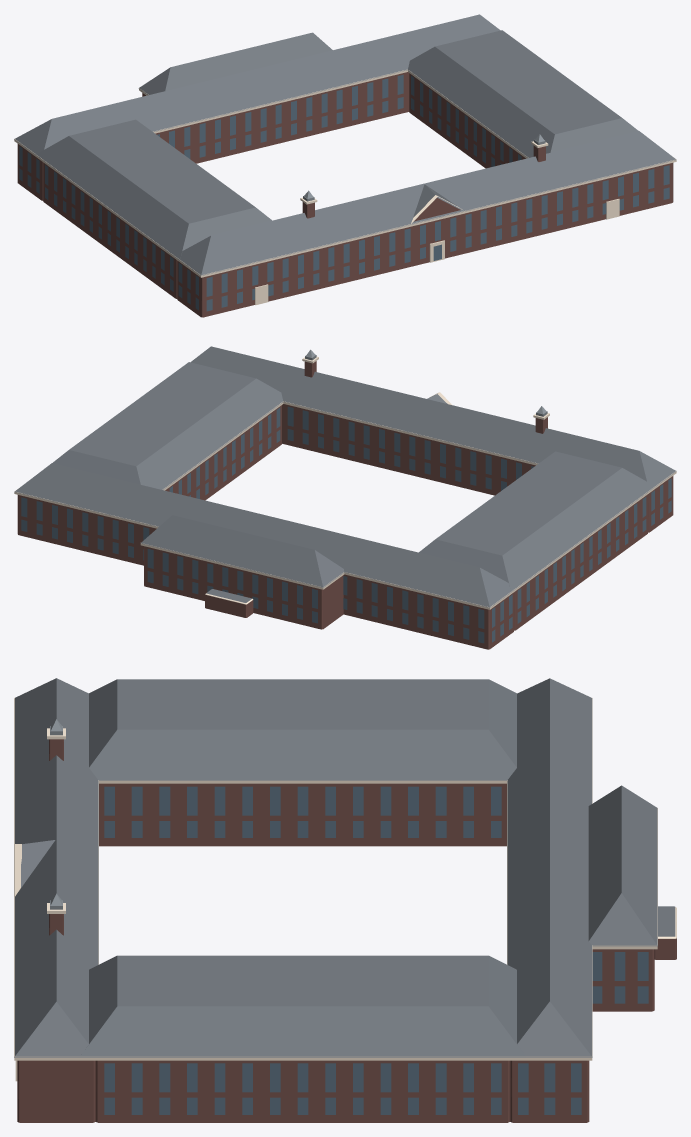
The model's file is amsterdam-hart-museum.glb.
3 renders of one model, top to bottom at view 1: azimuth 30°, elevation 25°; view 2: azimuth 150°, elevation 25°; view 3: azimuth 270°, elevation 25°, orthographic. The views are drawn at different scales.
Parts seen in each view (by area): view 1: H'ART Museum (Amstelhof); view 2: H'ART Museum (Amstelhof); view 3: H'ART Museum (Amstelhof).
Part boxes in pixels (<box>): H'ART Museum (Amstelhof): <box>14,14,676,317</box>; H'ART Museum (Amstelhof): <box>14,346,676,649</box>; H'ART Museum (Amstelhof): <box>14,678,676,1122</box>.
Bounding box in the file's own units: 103 × 18.4 × 80.3.
